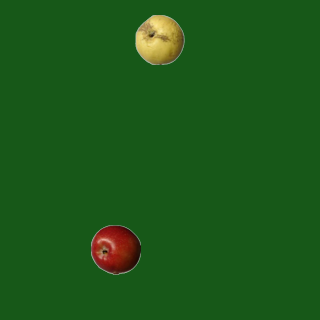Apple Braeburn: (90, 224, 140, 274)
Apple Golden 1: (134, 14, 184, 64)
